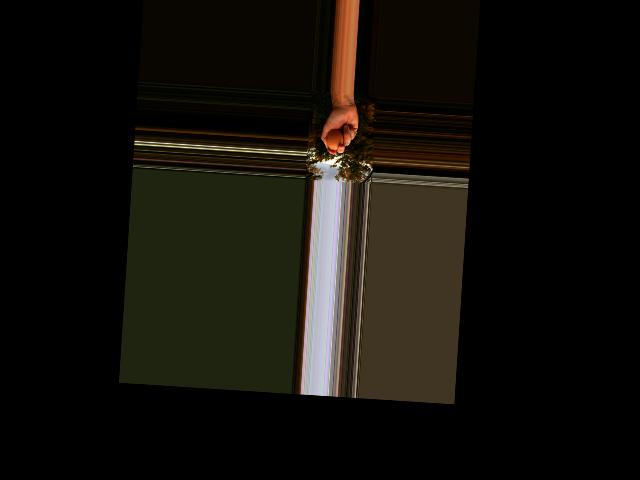egg: (326, 129, 344, 150)
